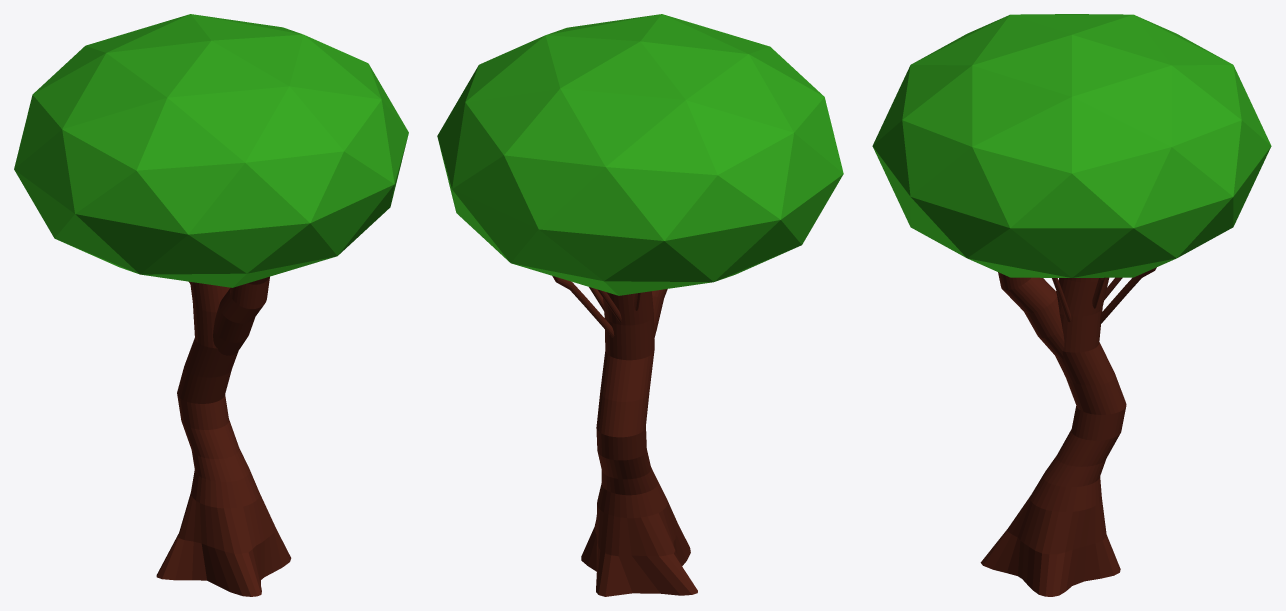
The model's file is Baum_3.fbx.
3 views of the same model, side by side, from view 1: azimuth 30°, elevation 25°; view 2: azimuth 150°, elevation 25°; view 3: azimuth 270°, elevation 25° (orthographic). The views are drawn at different scales.
Parts seen in each view (by area): view 1: Icosphere.004, Cylinder.004; view 2: Icosphere.004, Cylinder.004; view 3: Icosphere.004, Cylinder.004.
Boxes of the visible parts, bbox=[...] form: Icosphere.004: bbox=[14, 14, 408, 287]; Cylinder.004: bbox=[156, 276, 291, 596]; Icosphere.004: bbox=[437, 14, 843, 295]; Cylinder.004: bbox=[552, 276, 697, 596]; Icosphere.004: bbox=[872, 14, 1271, 277]; Cylinder.004: bbox=[980, 267, 1156, 596].
Bounding box in the file's own units: 388 × 583 × 398.
